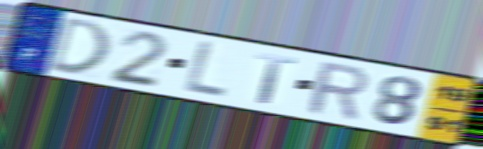2: (109, 28, 169, 89)
8: (371, 74, 424, 126)
D: (45, 14, 113, 76)
L: (181, 38, 229, 101)
R: (306, 59, 370, 123)
T: (254, 51, 299, 107)
